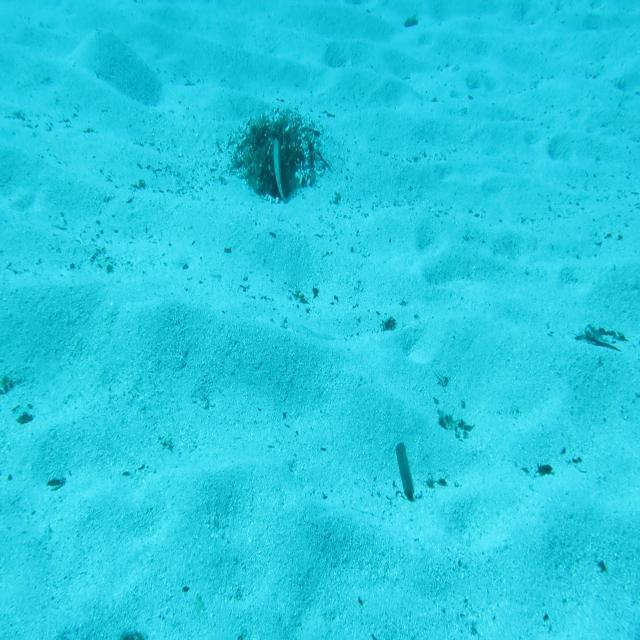FAN: (271, 138, 291, 204)
nest: (232, 115, 322, 201)
vegetation: (395, 443, 415, 496), (581, 325, 615, 345), (120, 616, 148, 640), (379, 316, 398, 334), (404, 16, 420, 31)
